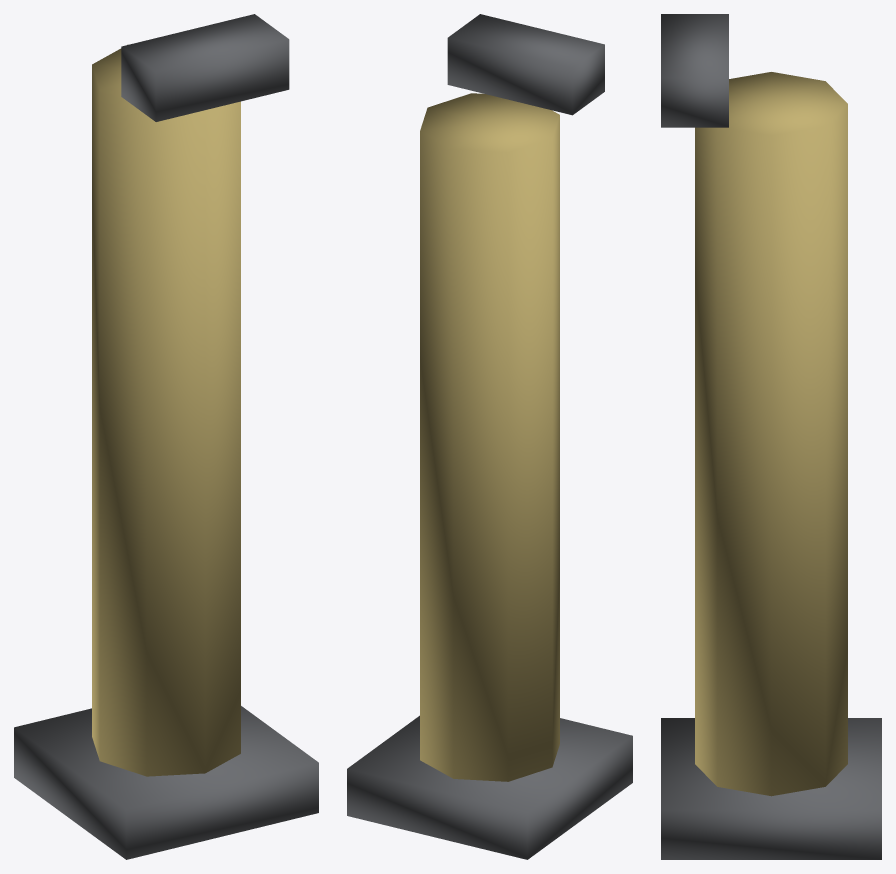
Rendered from bollard_06.glb.
The picture shows the model from 3 angles, left to right: view 1: azimuth 30°, elevation 25°; view 2: azimuth 150°, elevation 25°; view 3: azimuth 270°, elevation 25°; orthographic projection. The views are drawn at different scales.
Parts seen in each view (by area): view 1: world; view 2: world; view 3: world.
Part boxes in pixels (x1=…): world: x1=14, y1=14, x2=318, y2=859; world: x1=347, y1=14, x2=632, y2=859; world: x1=661, y1=14, x2=881, y2=859.
Size of the model in its own units: 0.2496 by 0.9672 by 0.2522.
